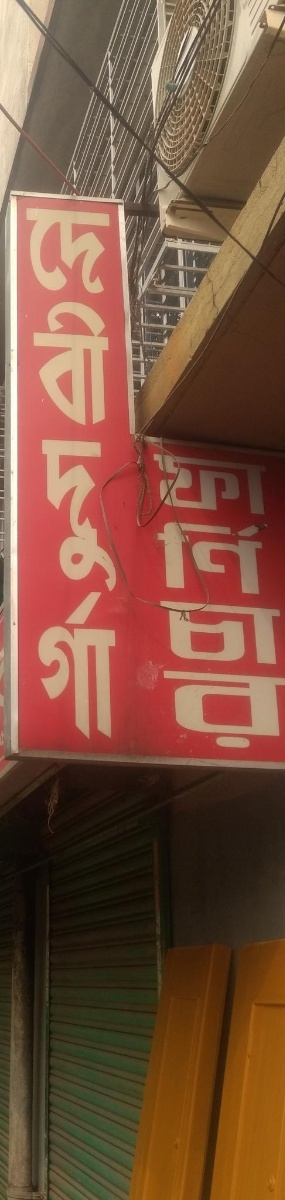text: (33, 203, 48, 746), (49, 203, 64, 746), (65, 203, 80, 746), (81, 203, 96, 746), (97, 203, 112, 746), (161, 450, 176, 750), (177, 450, 192, 750), (193, 450, 208, 750), (209, 450, 224, 750), (225, 450, 240, 750), (241, 450, 256, 750), (257, 450, 272, 750), (24, 203, 32, 746), (273, 450, 284, 750), (113, 203, 119, 746), (151, 450, 160, 750)
